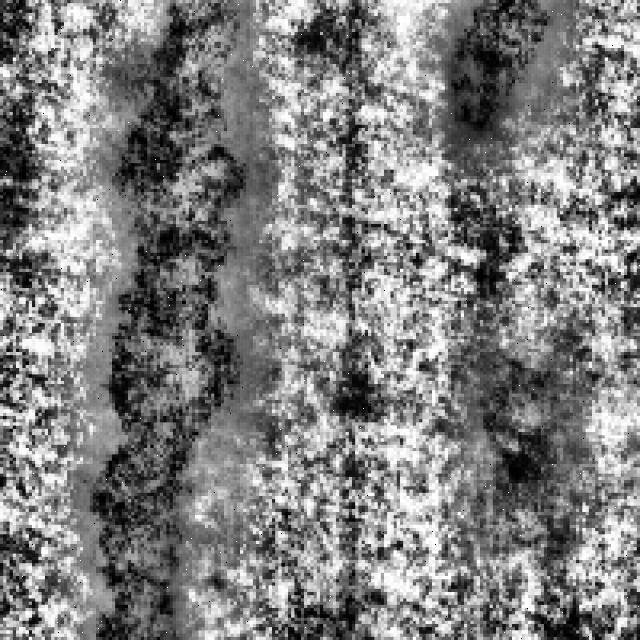Scratches: (93, 0, 263, 630), (445, 0, 576, 134), (477, 339, 582, 486)
